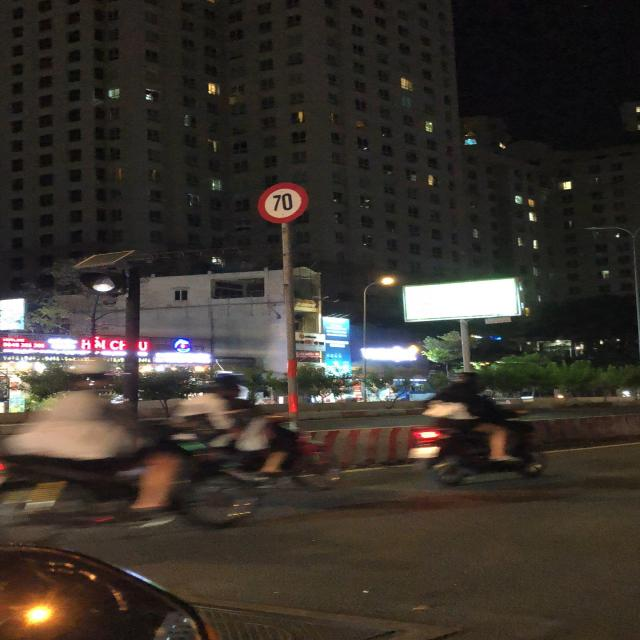Bien bao toc do toi da cho phep: (245, 180, 317, 227)
